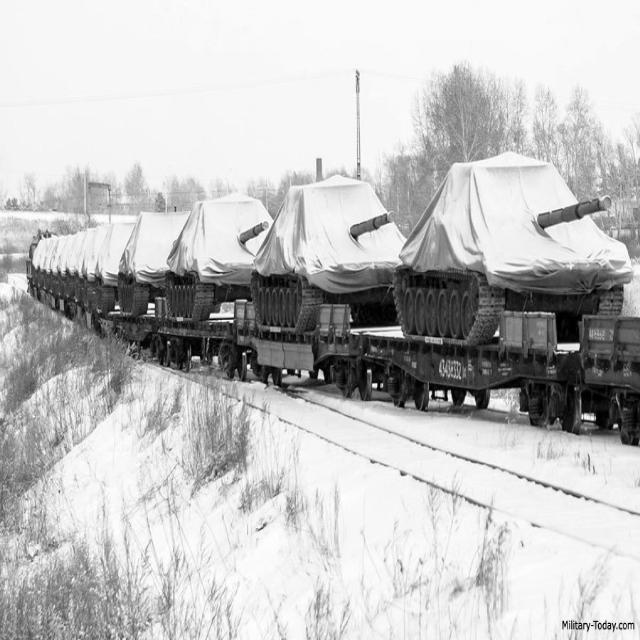Tank: (390, 136, 638, 353), (249, 170, 406, 343), (166, 181, 276, 332), (119, 207, 178, 323)
